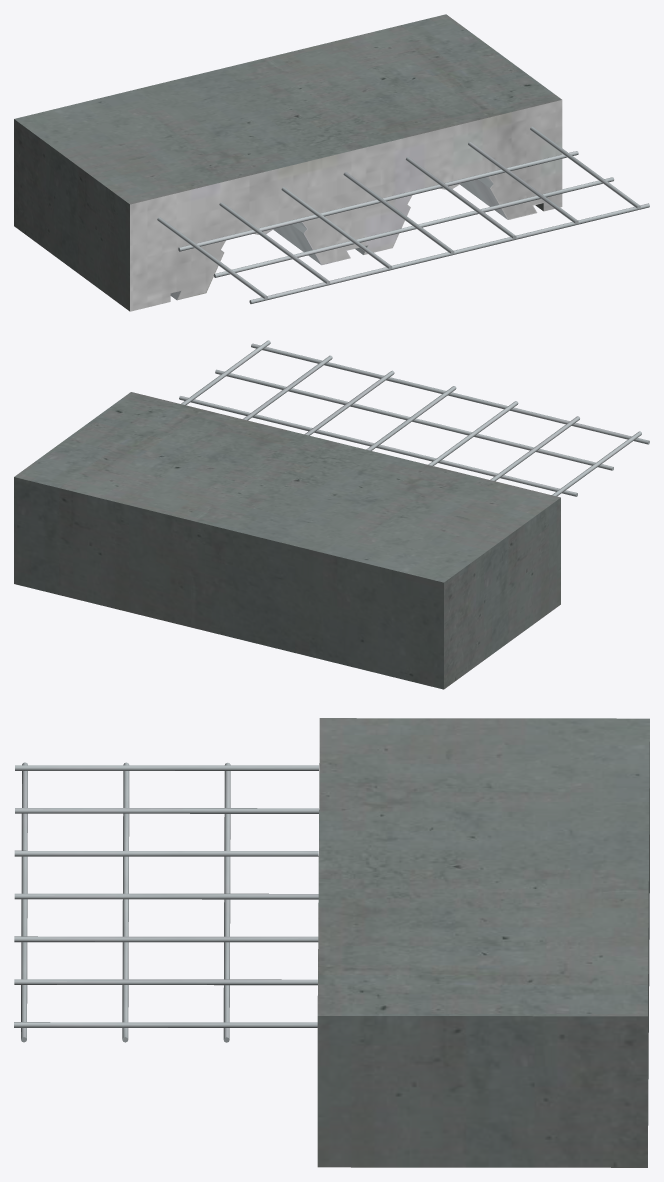
3 renders of one model, top to bottom at view 1: azimuth 30°, elevation 25°; view 2: azimuth 150°, elevation 25°; view 3: azimuth 270°, elevation 25°, orthographic. The views are drawn at different scales.
Visible parts, largest first — view 1: コンクリート - 03, 石材 - 大理石 グレー, 金属 - 亜鉛; view 2: コンクリート - 03, 金属 - 亜鉛; view 3: コンクリート - 03, 金属 - 亜鉛.
Part boxes in pixels (<box>): コンクリート - 03: <box>14,14,561,311</box>; 石材 - 大理石 グレー: <box>130,100,562,311</box>; 金属 - 亜鉛: <box>157,126,649,303</box>; コンクリート - 03: <box>14,392,560,689</box>; 金属 - 亜鉛: <box>179,340,649,496</box>; コンクリート - 03: <box>317,718,649,1167</box>; 金属 - 亜鉛: <box>14,762,318,1042</box>.
Size of the model in its own units: 13.27 by 3.15 by 11.96.
4 materials, 3 textured.
